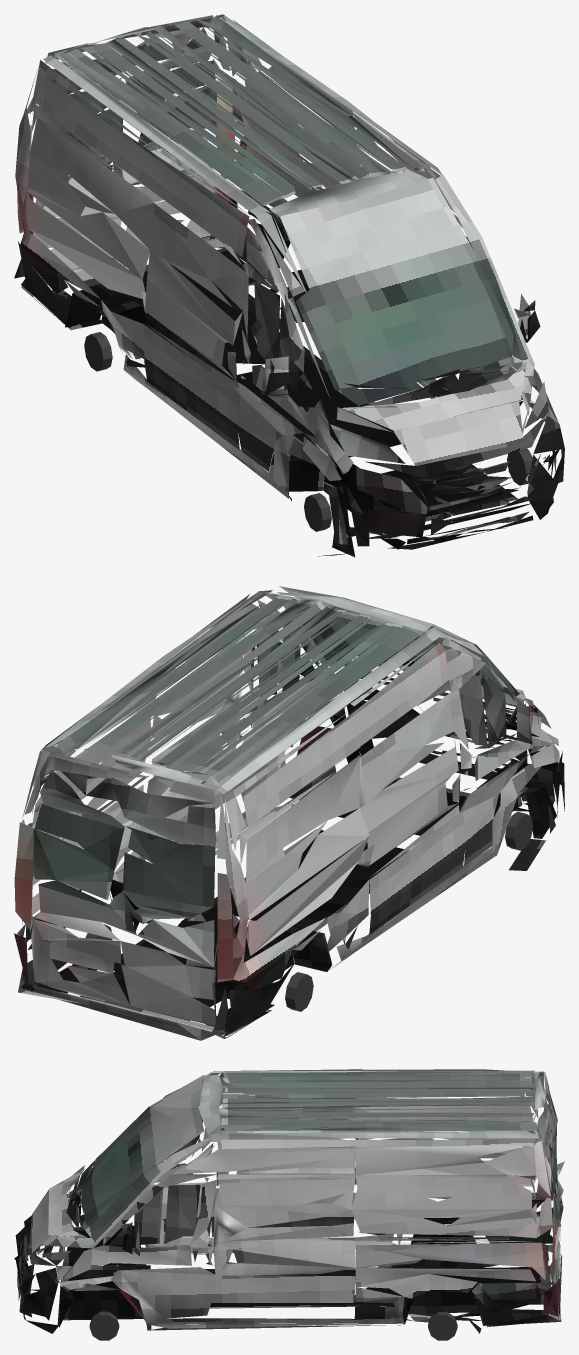
The model's file is transporter_f.glb.
3 views of the same model, one above another, from view 1: azimuth 30°, elevation 25°; view 2: azimuth 150°, elevation 25°; view 3: azimuth 270°, elevation 25° (orthographic). The views are drawn at different scales.
Parts seen in each view (by area): view 1: karosserie, rad_hl; view 2: karosserie, rad_hl; view 3: karosserie, rad_hl.
Part boxes in pixels (x1,y1,x2,y2): karosserie: [14, 14, 564, 557]; rad_hl: [84, 287, 532, 531]; karosserie: [14, 586, 564, 1040]; rad_hl: [85, 765, 532, 1011]; karosserie: [14, 1069, 564, 1333]; rad_hl: [89, 1265, 457, 1340].
Size of the model in its own units: 2.63 by 2.74 by 6.03.
Materials: 2 (1 with a texture image).
